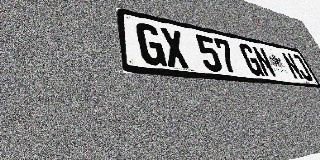5: (195, 34, 224, 72)
7: (212, 38, 241, 74)
G: (135, 22, 167, 67), (238, 43, 265, 76)
J: (290, 54, 314, 81)
N: (251, 46, 278, 78), (280, 52, 305, 80)
X: (159, 27, 191, 69)
